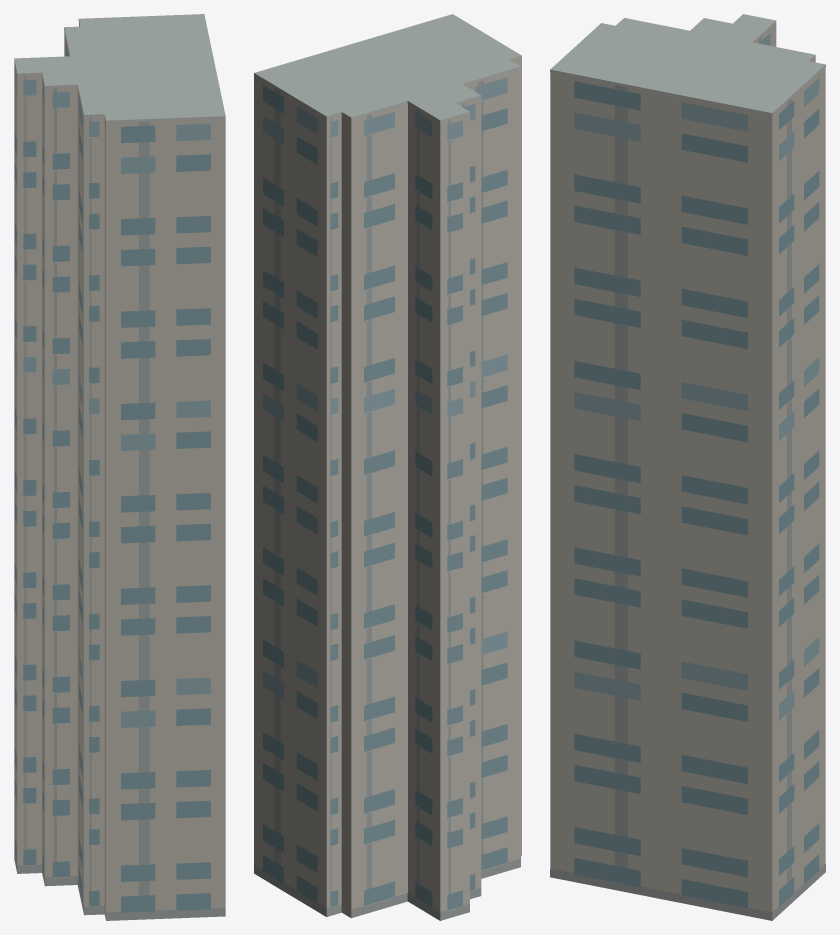
Rendered from residential-618a6f0d-6d4c-453d-8e0e-c5eb8a8f075d.glb.
The picture shows the model from 3 angles, left to right: view 1: azimuth 30°, elevation 25°; view 2: azimuth 150°, elevation 25°; view 3: azimuth 270°, elevation 25°; orthographic projection.
Parts seen in each view (by area): view 1: residential-618a6f0d-6d4c-453d-8e0e-c5eb8a8f075d.tmp; view 2: residential-618a6f0d-6d4c-453d-8e0e-c5eb8a8f075d.tmp; view 3: residential-618a6f0d-6d4c-453d-8e0e-c5eb8a8f075d.tmp.
Part boxes in pixels (box(x1,y1,x2,y2)): residential-618a6f0d-6d4c-453d-8e0e-c5eb8a8f075d.tmp: box(14, 14, 225, 920); residential-618a6f0d-6d4c-453d-8e0e-c5eb8a8f075d.tmp: box(254, 14, 521, 920); residential-618a6f0d-6d4c-453d-8e0e-c5eb8a8f075d.tmp: box(550, 14, 825, 920).
Size of the model in its own units: 19.23 by 73 by 22.59.
